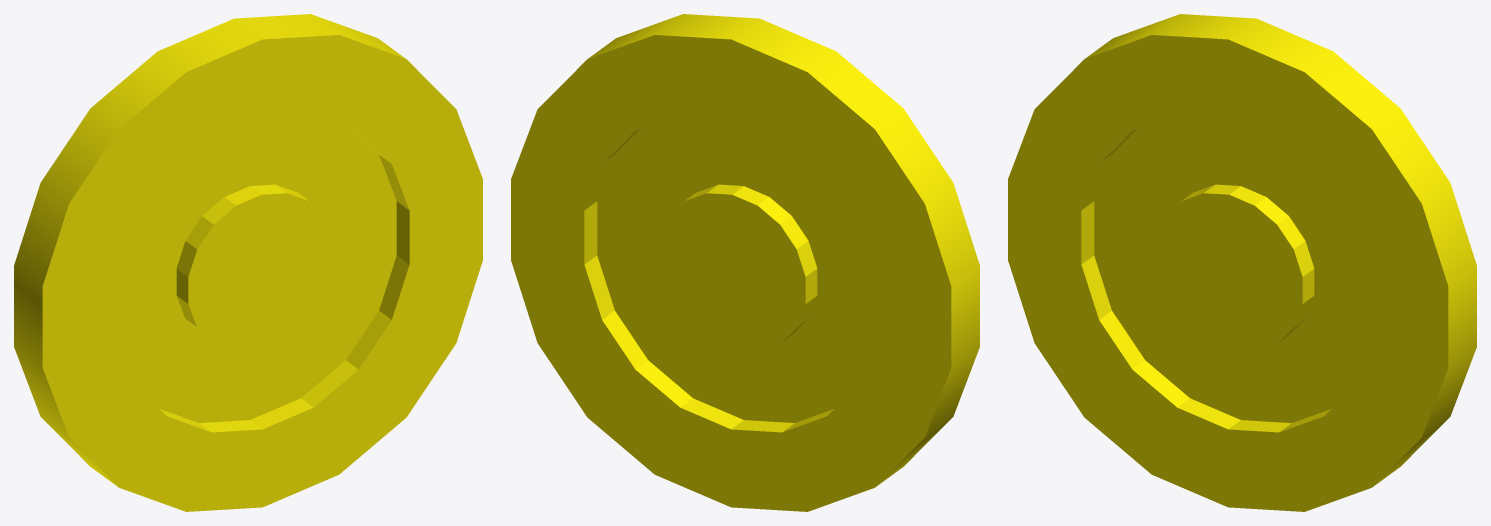
Rendered from coin.fbx.
3 renders of one model, left to right at view 1: azimuth 30°, elevation 25°; view 2: azimuth 150°, elevation 25°; view 3: azimuth 330°, elevation 25°, orthographic.
Visible parts, largest first — view 1: Cylinder001; view 2: Cylinder001; view 3: Cylinder001.
Part boxes in pixels (x1,y1,x2,y2): Cylinder001: (14,14,482,511); Cylinder001: (511,14,979,511); Cylinder001: (1008,14,1476,511).
Size of the model in its own units: 76.53 by 8.6 by 77.71.
Materials: 1 (1 with a texture image).
